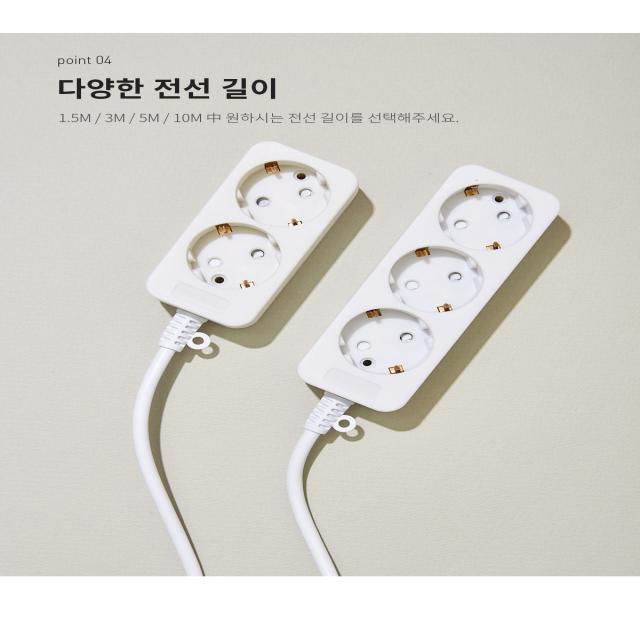typeb: (322, 168, 588, 436), (143, 142, 384, 334)
